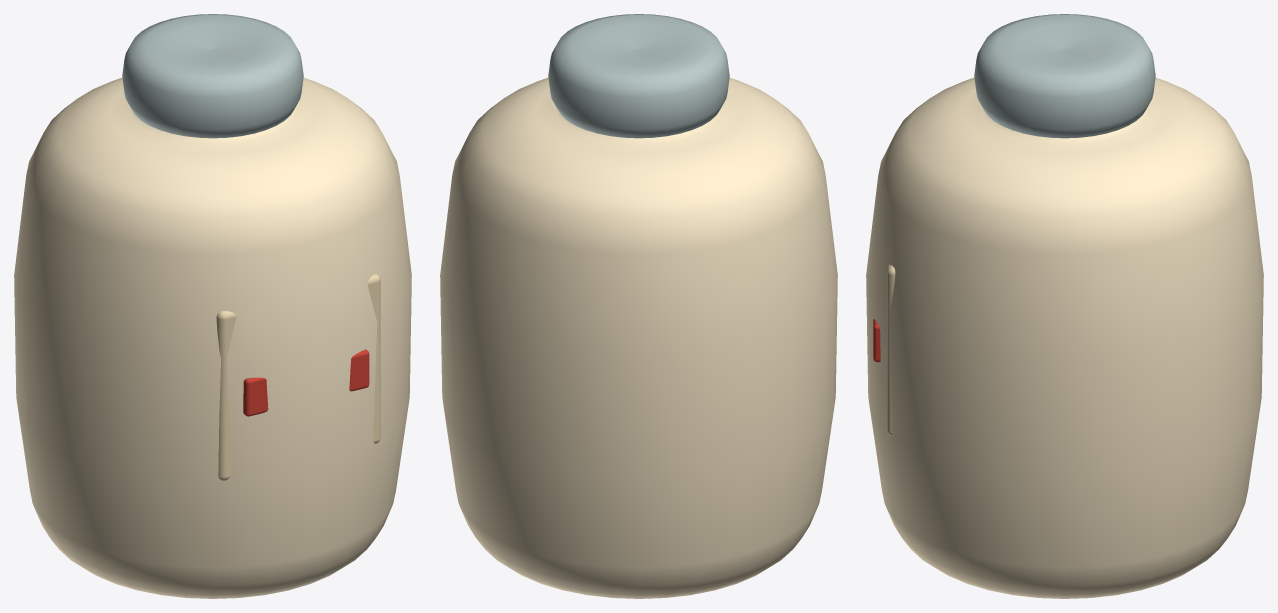
File: bonus-foam-light.glb
3 views of the same model, side by side, from view 1: azimuth 30°, elevation 25°; view 2: azimuth 150°, elevation 25°; view 3: azimuth 270°, elevation 25° (orthographic).
Parts seen in each view (by area): view 1: ivory, steel, cream, red; view 2: ivory, steel; view 3: ivory, steel, cream.
Part boxes in pixels (box(x1,y1,x2,y2)): ivory: box(14, 78, 411, 598); steel: box(122, 14, 303, 138); cream: box(216, 273, 380, 480); red: box(243, 349, 369, 416); ivory: box(440, 78, 837, 598); steel: box(548, 14, 729, 138); ivory: box(866, 78, 1263, 598); steel: box(974, 14, 1155, 138); cream: box(887, 264, 895, 435).
Bounding box in the file's own units: 0.5293 × 0.7352 × 0.5293.
